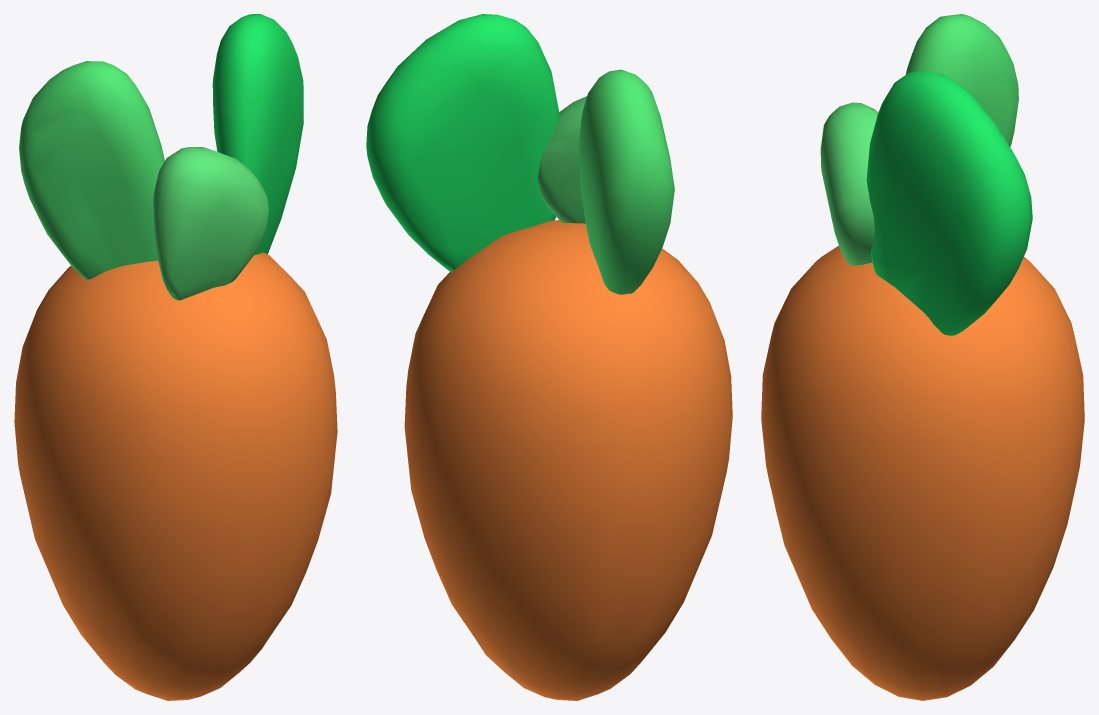
The model's file is zanahoria.fbx.
The picture shows the model from 3 angles, left to right: view 1: azimuth 30°, elevation 25°; view 2: azimuth 150°, elevation 25°; view 3: azimuth 270°, elevation 25°; orthographic projection.
Parts seen in each view (by area): view 1: Cube.101; view 2: Cube.101; view 3: Cube.101.
Part boxes in pixels (x1,y1,x2,y2): Cube.101: (14, 14, 337, 700); Cube.101: (366, 14, 732, 700); Cube.101: (761, 14, 1084, 700).
Bounding box in the file's own units: 74.44 × 156 × 69.35.
